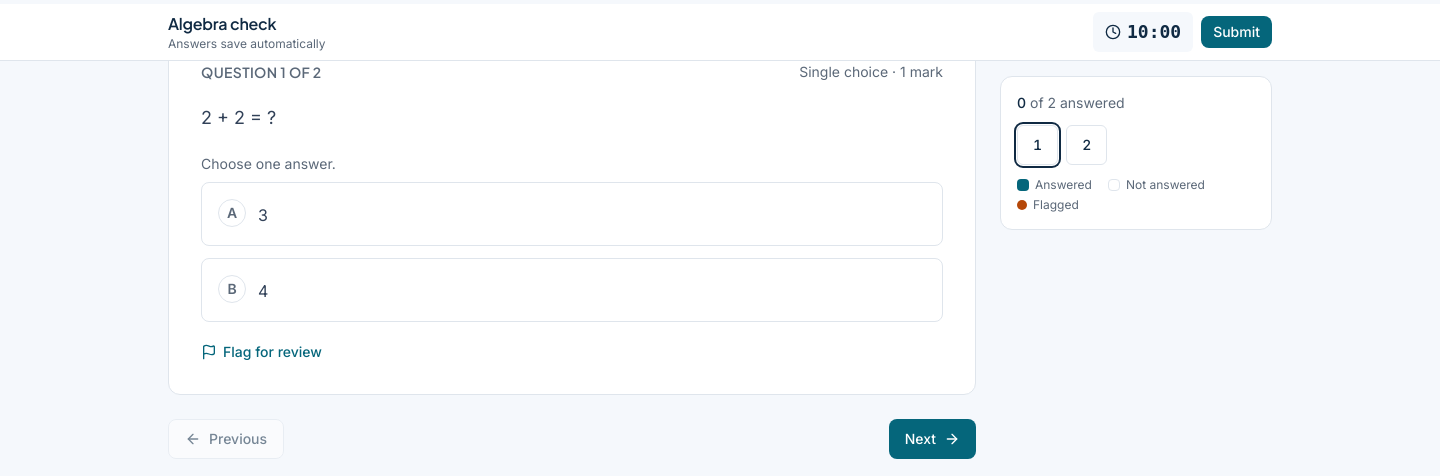
Test: ExamPlayer › saves the selected option and reports it as saved
Click the radio button named "Option B": (284, 288) [201,258,943,322]
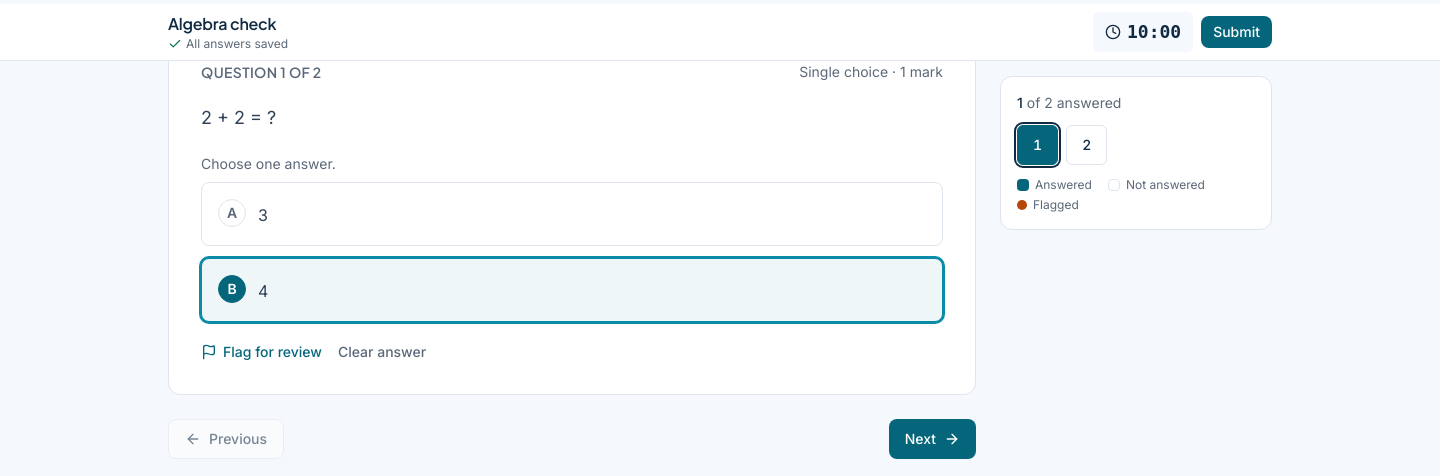
Expected: the radio button named "Option B" is checked, [201,258,943,322]
Expected: the text "All answers saved" is shown, [168,36,288,52]
